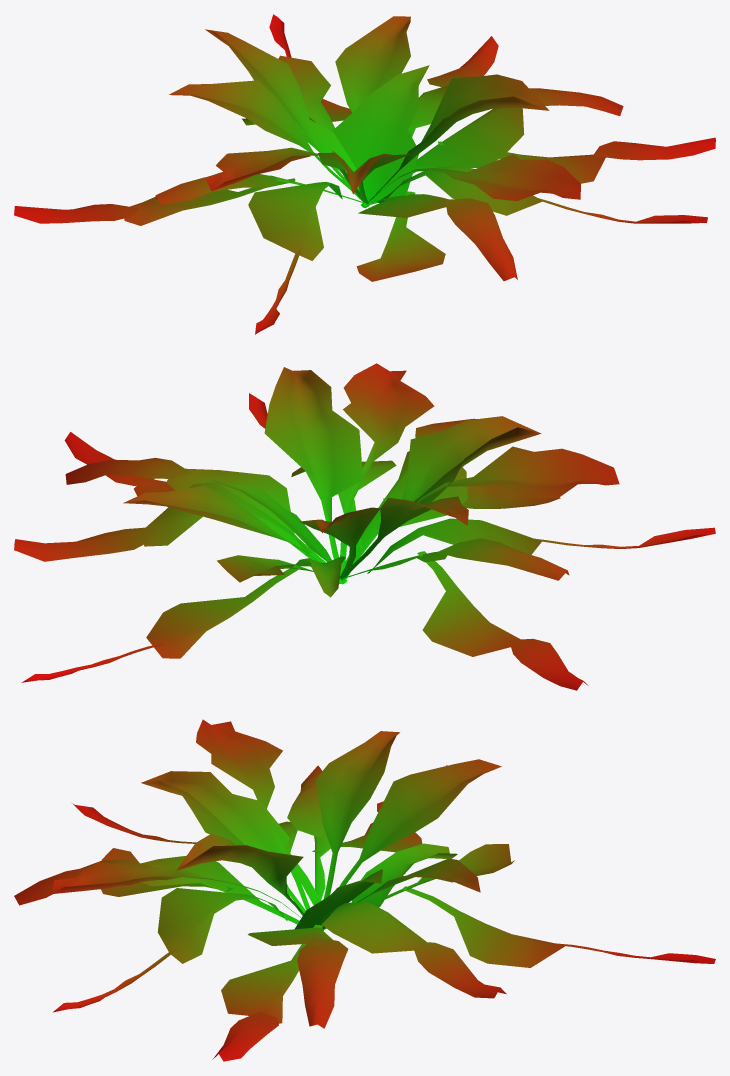
Rendered from Var4_LOD0.fbx.
3 renders of one model, top to bottom at view 1: azimuth 30°, elevation 25°; view 2: azimuth 150°, elevation 25°; view 3: azimuth 270°, elevation 25°, orthographic. The views are drawn at different scales.
Parts seen in each view (by area): view 1: _7c8f_Var4_LOD0; view 2: _7c8f_Var4_LOD0; view 3: _7c8f_Var4_LOD0.
Boxes of the visible parts, x1,y1,x2,y2 form: _7c8f_Var4_LOD0: (14, 14, 715, 334); _7c8f_Var4_LOD0: (14, 363, 715, 690); _7c8f_Var4_LOD0: (14, 719, 715, 1061).
Bounding box in the file's own units: 78.98 × 17.39 × 78.68.
